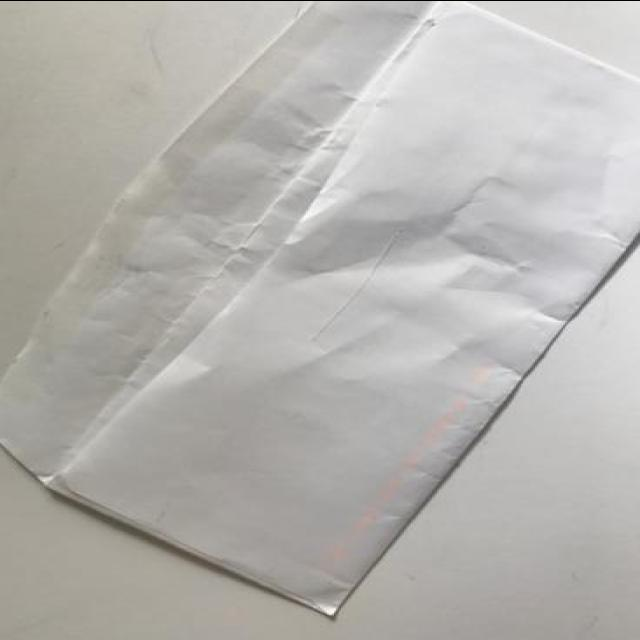kertas: (0, 0, 640, 621)
